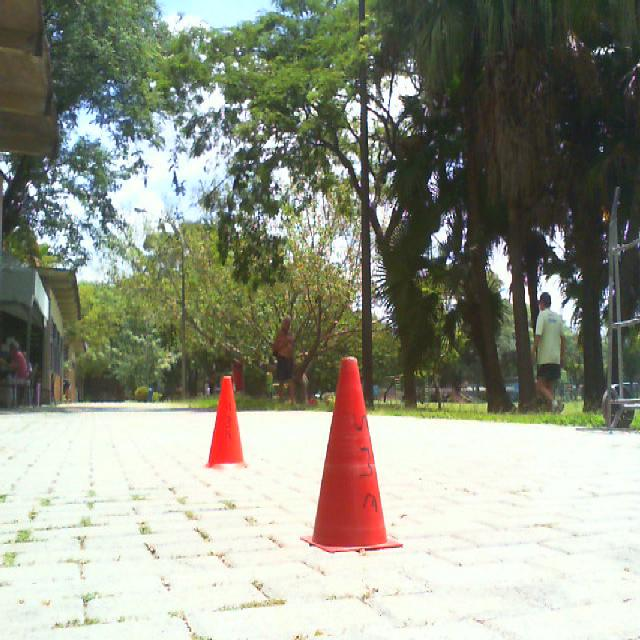cone: (300, 357, 403, 555), (205, 376, 248, 473)
